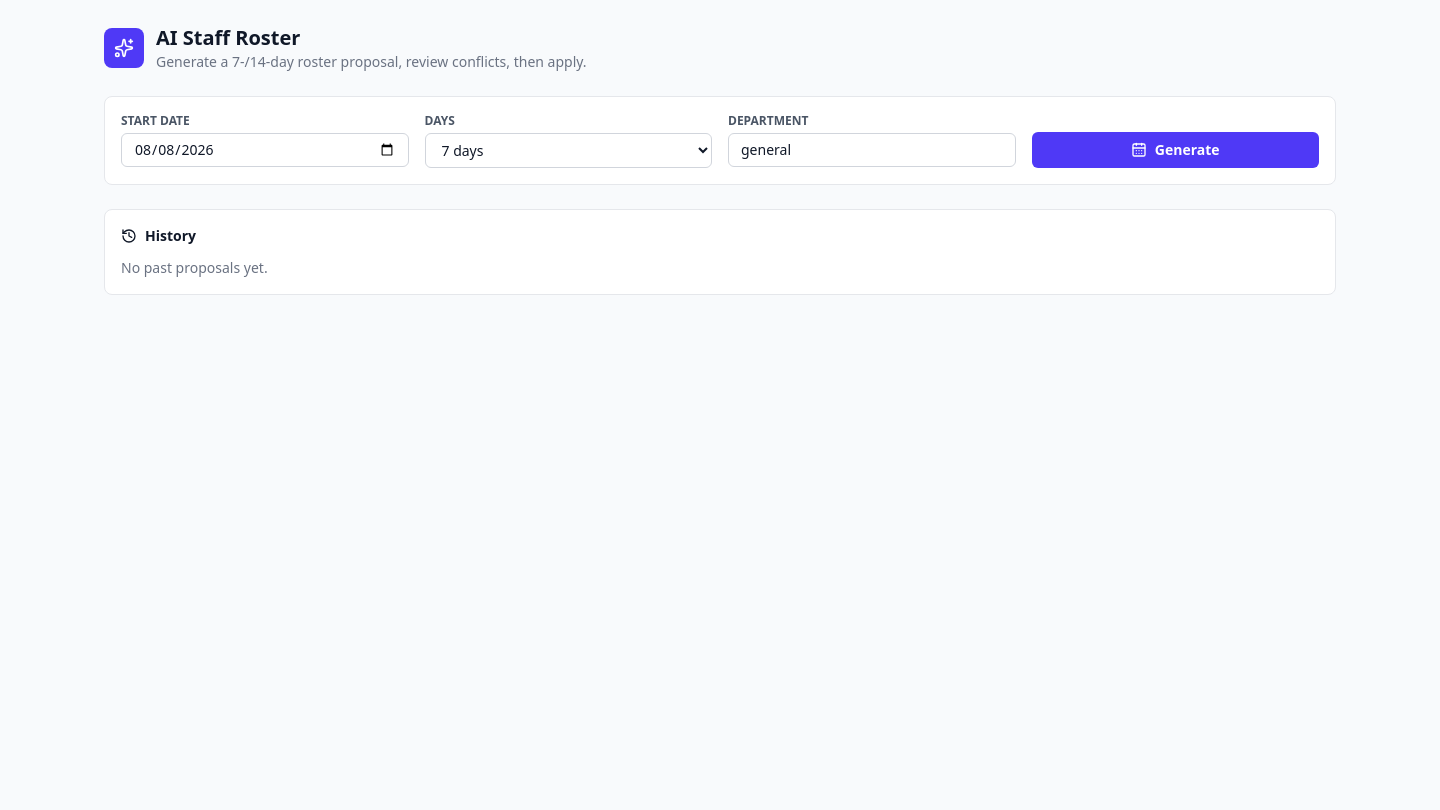
it: AI Staff Roster dashboard page › renders the violations-remain notice in the confirm modal when the proposal has violationsIfApplied
The image size is (1440, 810).
Click the button "Generate": [1175, 150] box [1032,132,1319,168]
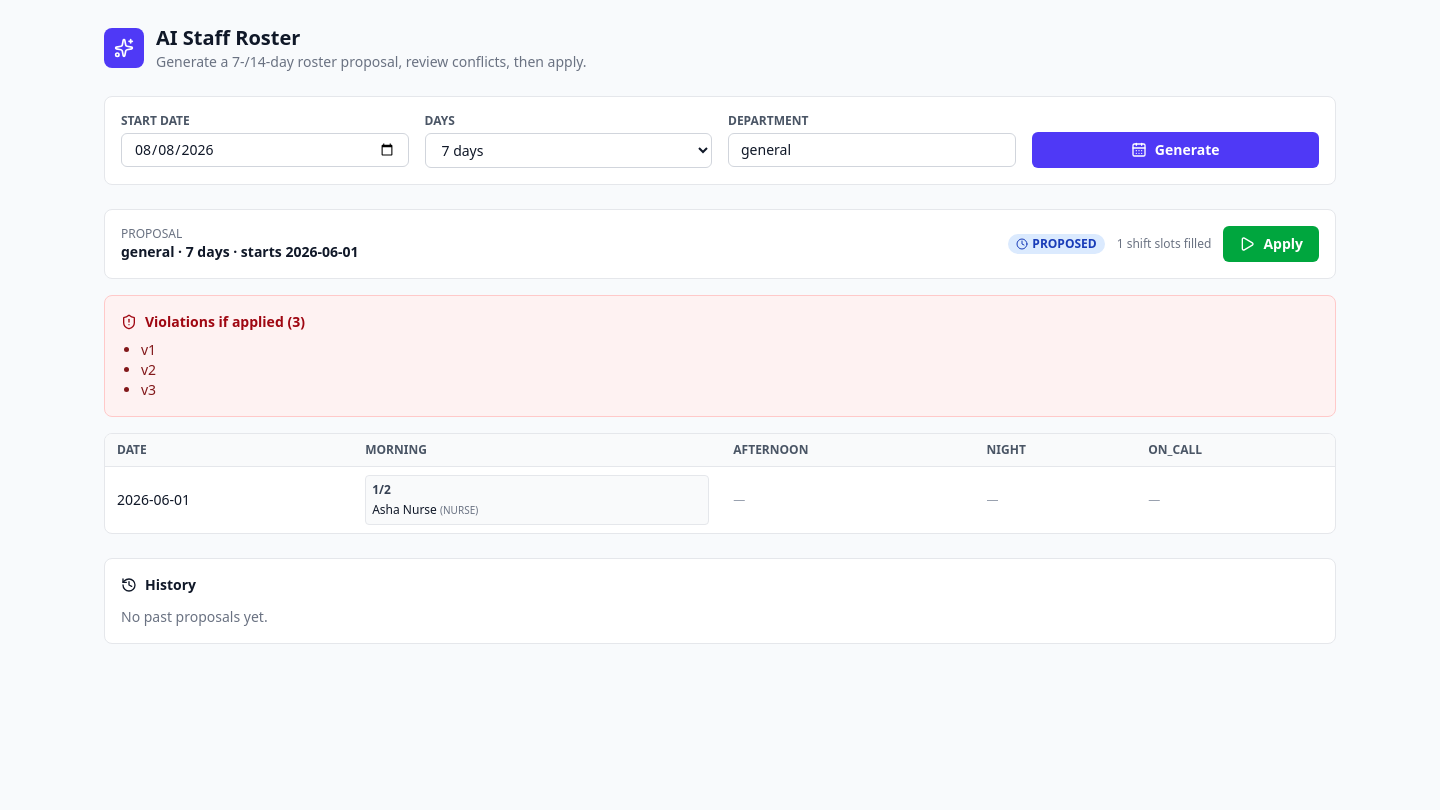
Click the button "Apply": [1271, 244] box [1223,226,1319,262]
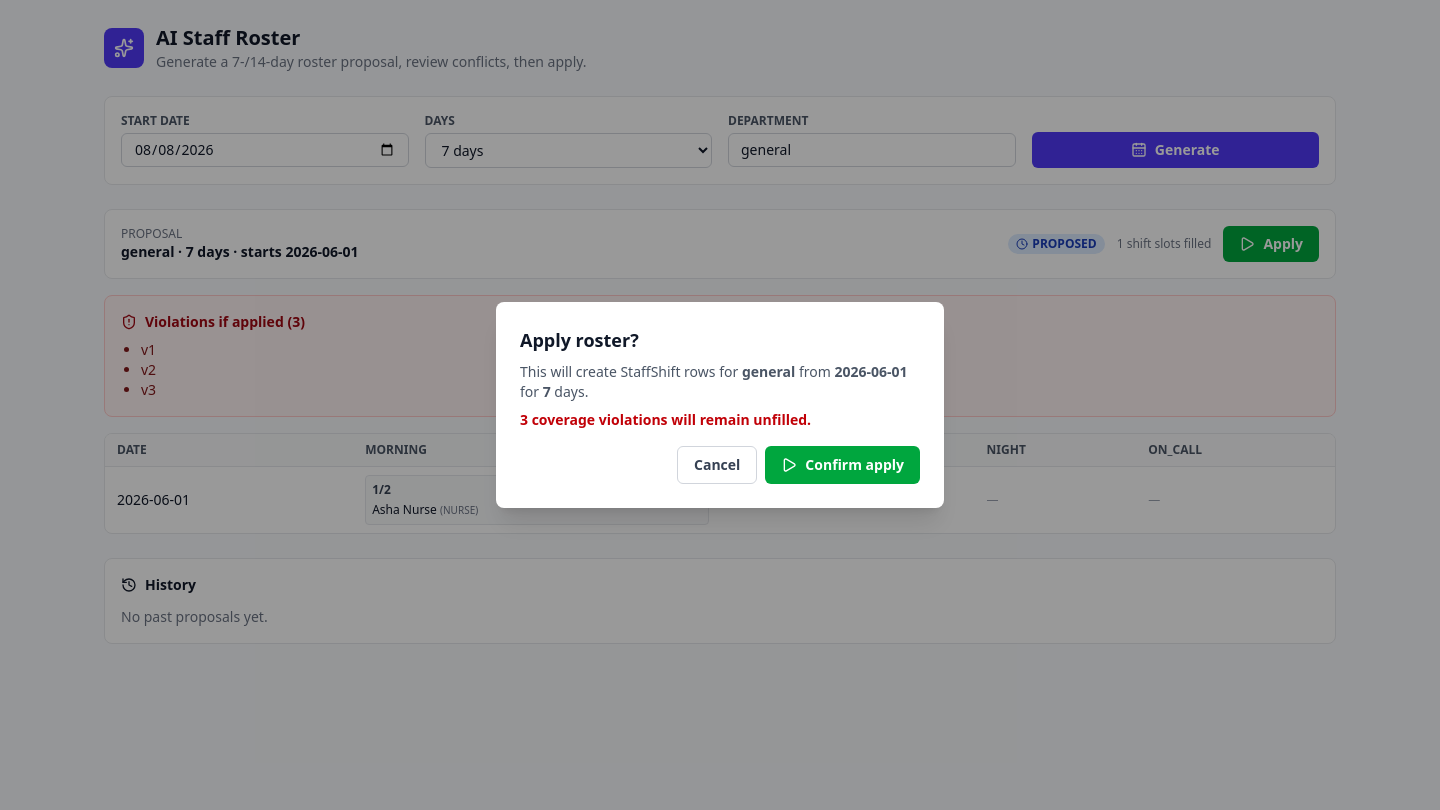
Check: the text "3 coverage violations will remain unfilled." is shown, box [520,410,811,429]
// Cancel returns to the page (modal closes).
Click the button "Cancel": [717, 465] box [677,446,757,484]
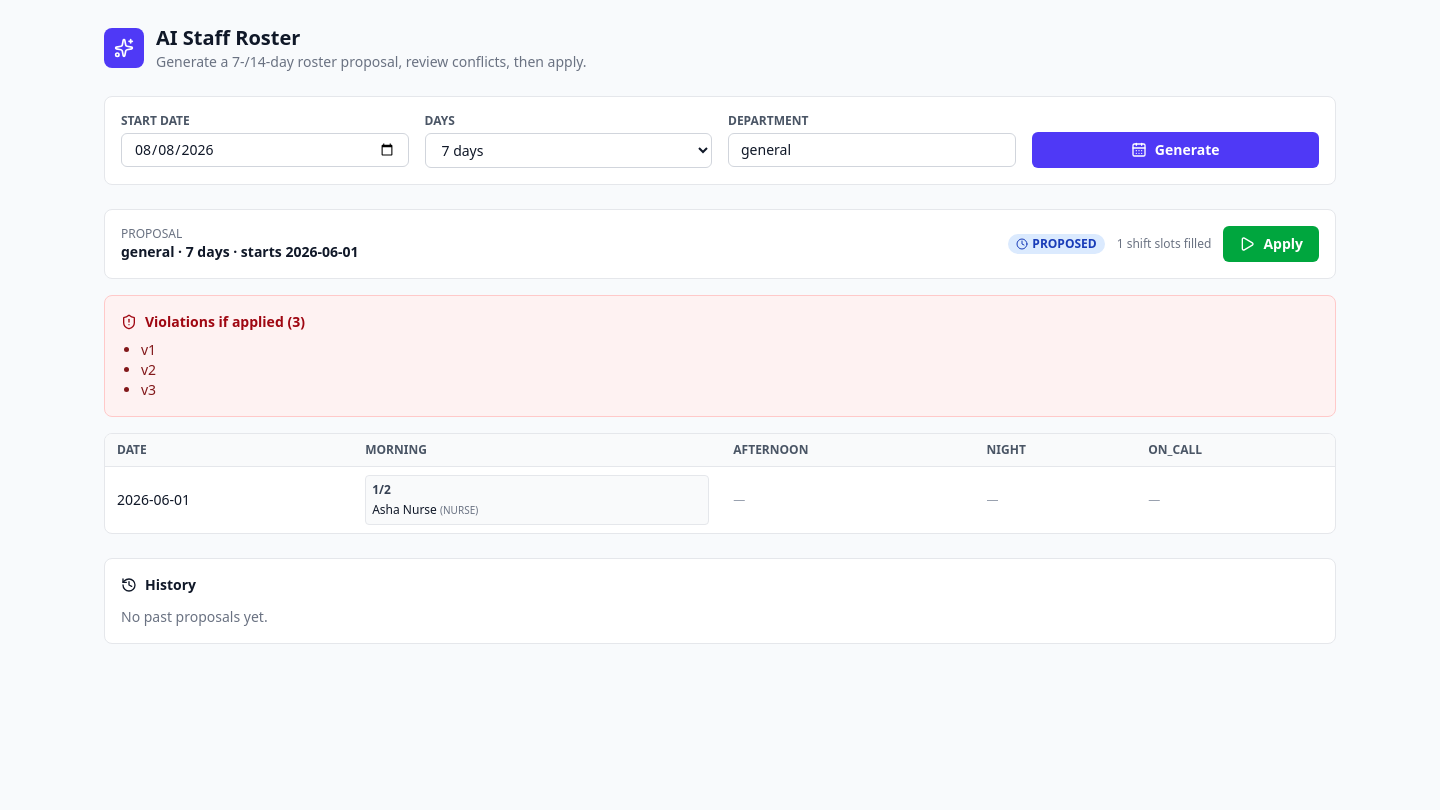
Check: the heading "Apply roster?" is gone
